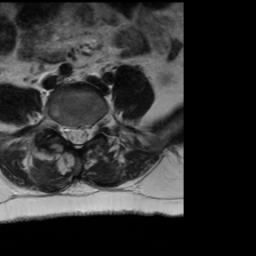CCS_normal: (73, 117, 82, 156)
LFS_normal: (92, 112, 100, 139)
LLS_normal: (82, 117, 92, 150)
RFS_normal: (54, 111, 63, 141)
RLS_normal: (64, 115, 73, 149)
